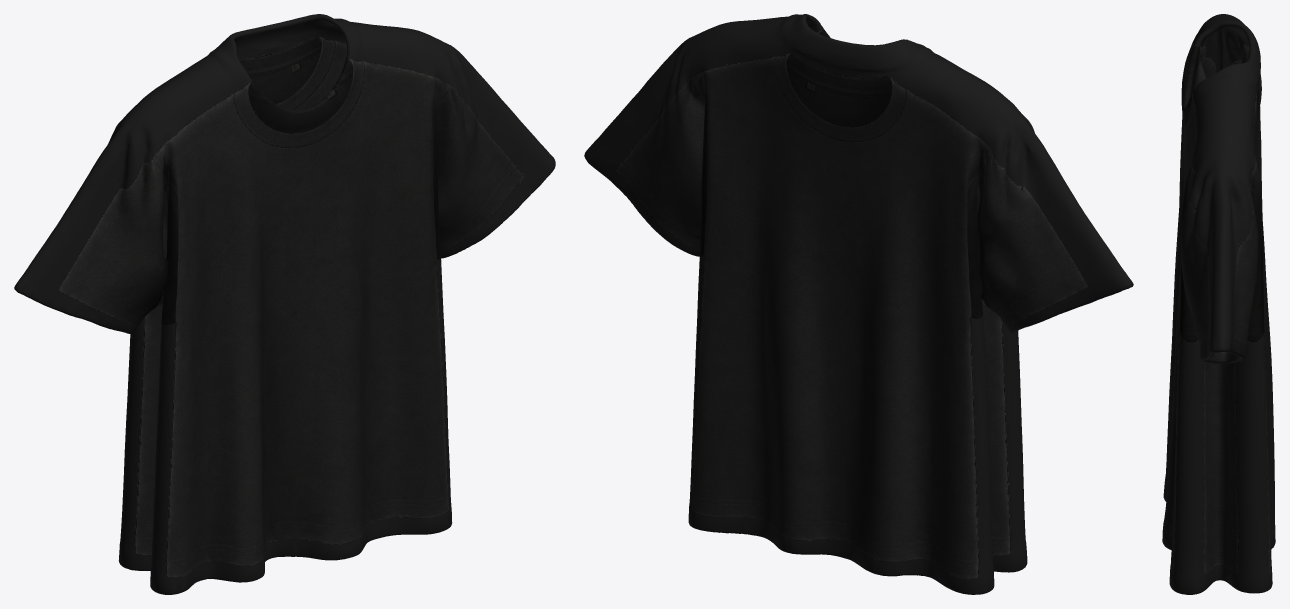
The model's file is garment_photo_textured.glb.
The picture shows the model from 3 angles, left to right: view 1: azimuth 30°, elevation 25°; view 2: azimuth 150°, elevation 25°; view 3: azimuth 270°, elevation 25°; orthographic projection. The views are drawn at different scales.
Visible parts, largest first — view 1: garment; view 2: garment; view 3: garment.
Part boxes in pixels (left/top/right/bottom): garment: left=14, top=14, right=555, bottom=594; garment: left=584, top=14, right=1133, bottom=594; garment: left=1162, top=14, right=1275, bottom=594.
Size of the model in its own units: 1.99 by 1.81 by 0.3833.
1 material, 1 textured.
